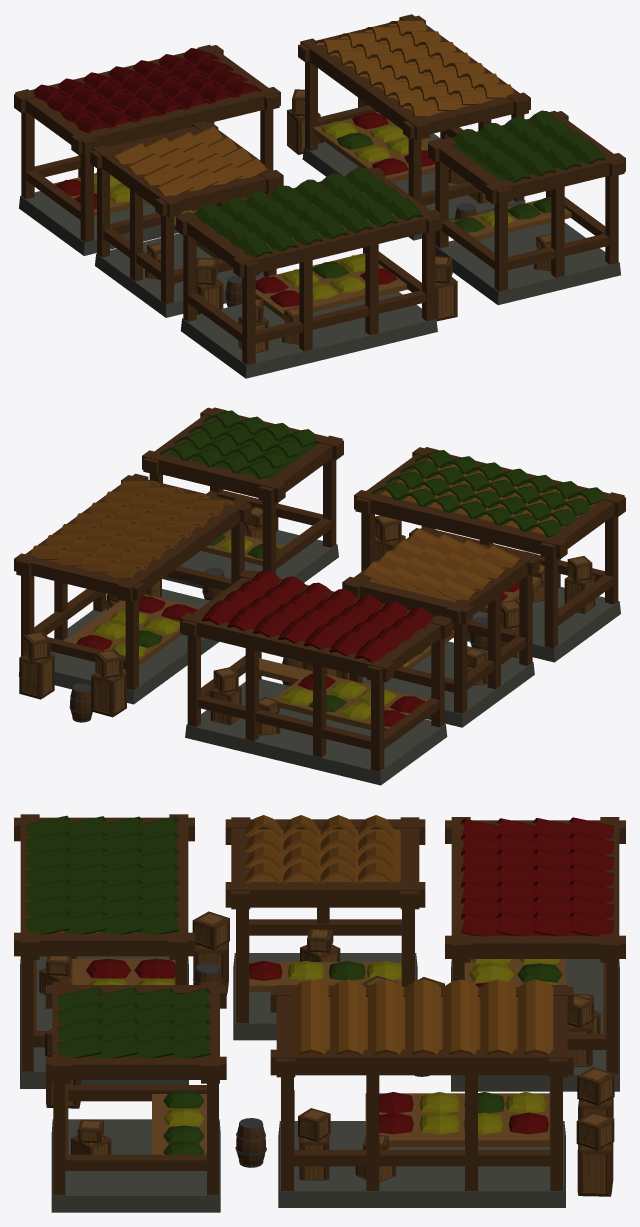
3 renders of one model, top to bottom at view 1: azimuth 30°, elevation 25°; view 2: azimuth 150°, elevation 25°; view 3: azimuth 270°, elevation 25°, orthographic. The views are drawn at different scales.
Visible parts, largest first — view 1: Market_SecondAge_Level3_Cube.104; view 2: Market_SecondAge_Level3_Cube.104; view 3: Market_SecondAge_Level3_Cube.104.
Boxes of the visible parts, x1,y1,x2,y2 form: Market_SecondAge_Level3_Cube.104: (14,14,625,378); Market_SecondAge_Level3_Cube.104: (14,407,625,785); Market_SecondAge_Level3_Cube.104: (14,814,625,1212).
Size of the model in its own units: 580 by 197 by 596.
